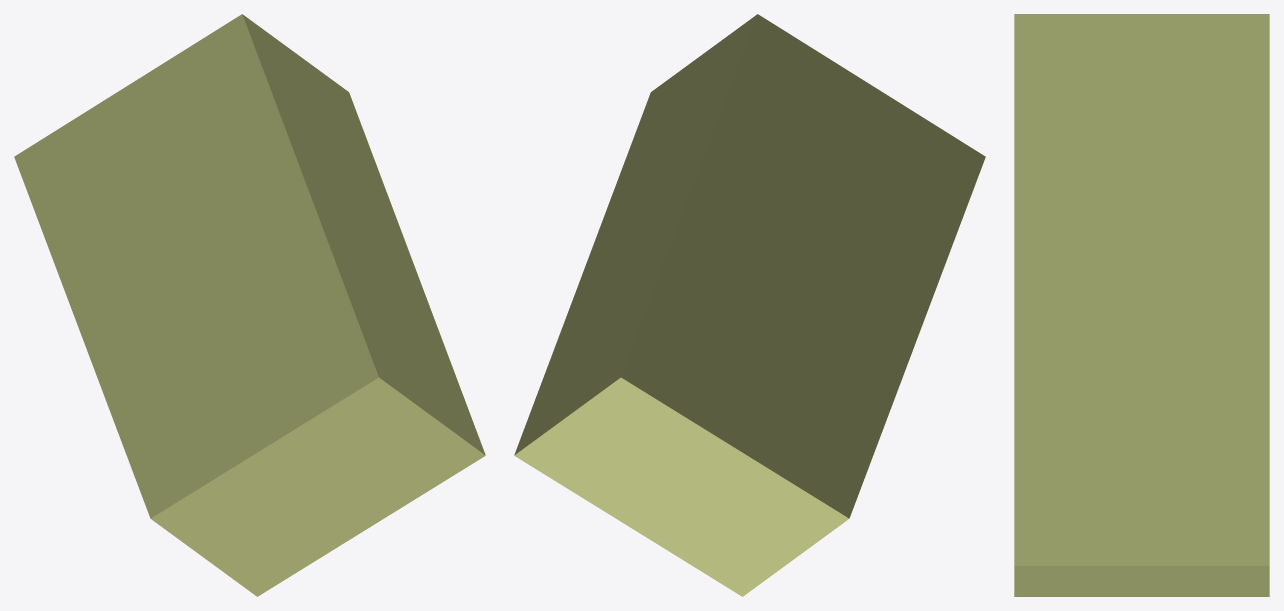
The picture shows the model from 3 angles, left to right: view 1: azimuth 30°, elevation 25°; view 2: azimuth 150°, elevation 25°; view 3: azimuth 270°, elevation 25°; orthographic projection. The views are drawn at different scales.
Visible parts, largest first — view 1: 0_1_1_3_3_0_0_3_1; view 2: 0_1_1_3_3_0_0_3_1; view 3: 0_1_1_3_3_0_0_3_1.
Boxes of the visible parts, x1,y1,x2,y2 form: 0_1_1_3_3_0_0_3_1: (14,14,485,596); 0_1_1_3_3_0_0_3_1: (514,14,985,596); 0_1_1_3_3_0_0_3_1: (1014,14,1269,596).
Size of the model in its own units: 11.82 by 14.94 by 6.
